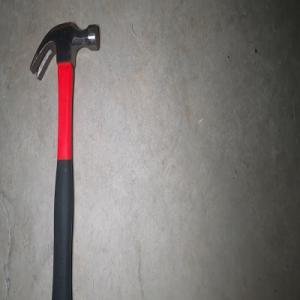Hammer: (28, 21, 100, 300)
